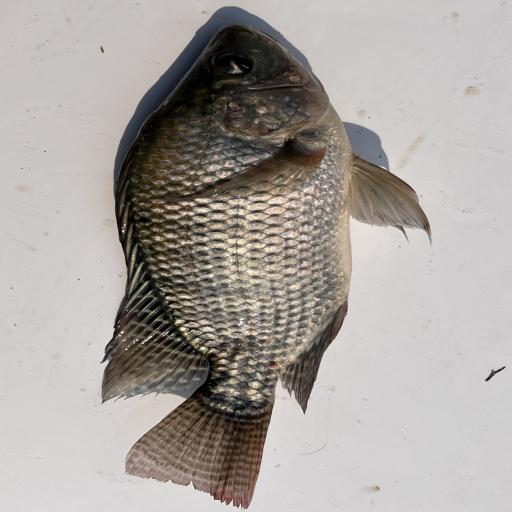Tilapia: (100, 24, 432, 510)
